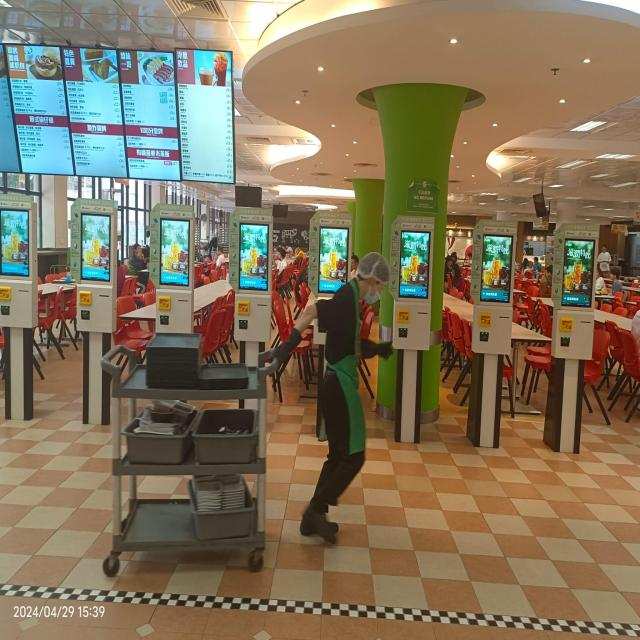orderKiosk: (552, 221, 596, 363), (70, 199, 114, 332), (388, 223, 432, 354), (148, 211, 193, 335), (230, 214, 272, 344), (472, 232, 516, 354), (0, 203, 42, 328), (313, 219, 353, 345)
